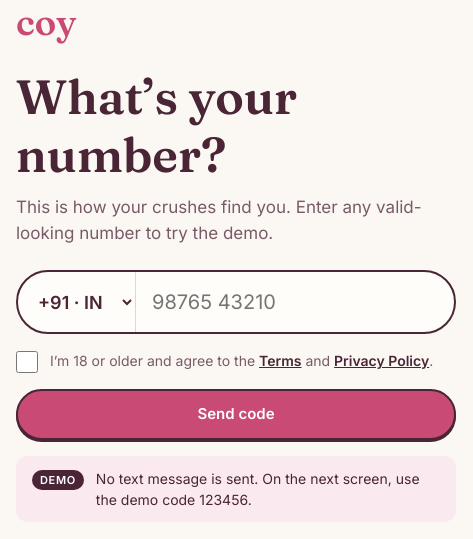
Test case: LoginPage › moves to the OTP step and never claims a text message was sent
The image size is (473, 539).
Type "9876543210" into the field named "Phone number" at point(295, 302), box [136, 272, 454, 332]
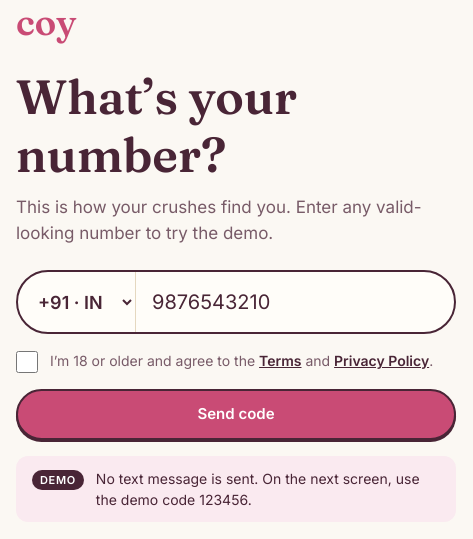
Click the checkbox at point(27, 362), box [16, 351, 38, 373]
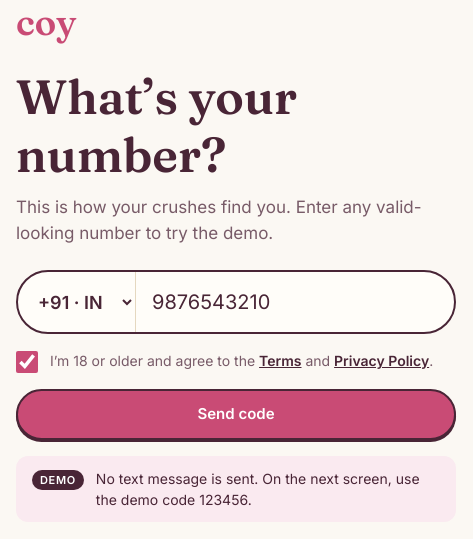
Click the button "Send code" at point(236, 414), box [16, 389, 456, 440]
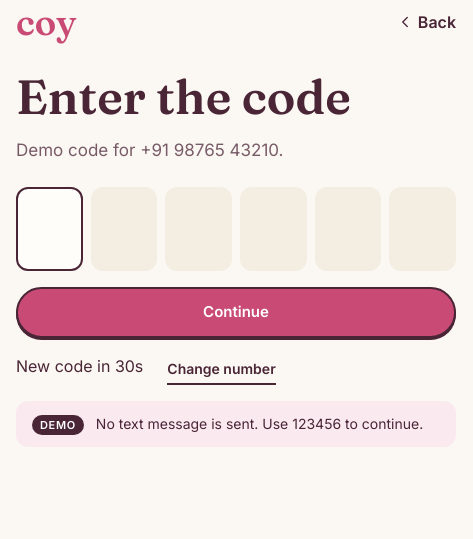
Expected: the text "Demo No text message is sent. Use 123456 to continue." is shown, [16, 401, 456, 447]
Now the heading "Enter the code" is shown, box [16, 67, 351, 126]
Now the text "Demo code for +91 98765 43210." is shown, box [16, 140, 284, 160]
